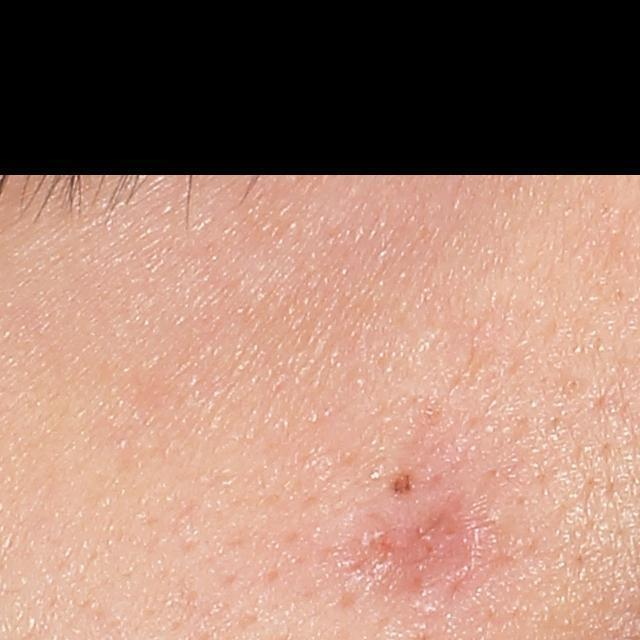nevus: (386, 471, 414, 500)
